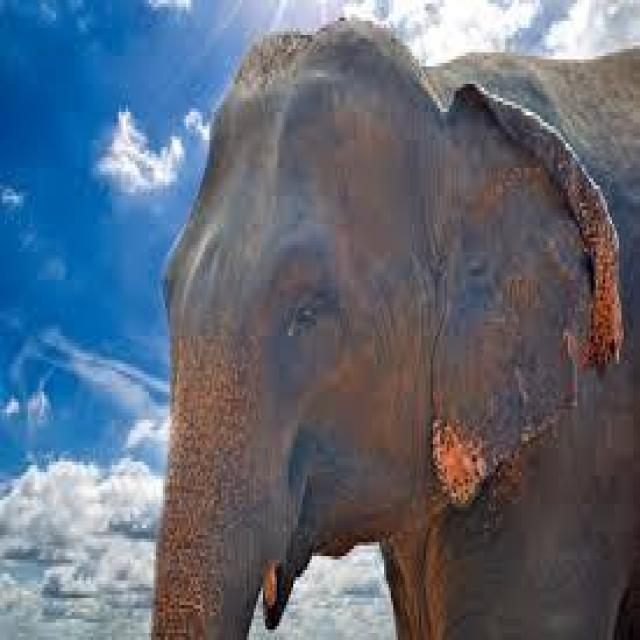Elephant: (149, 18, 638, 630)
